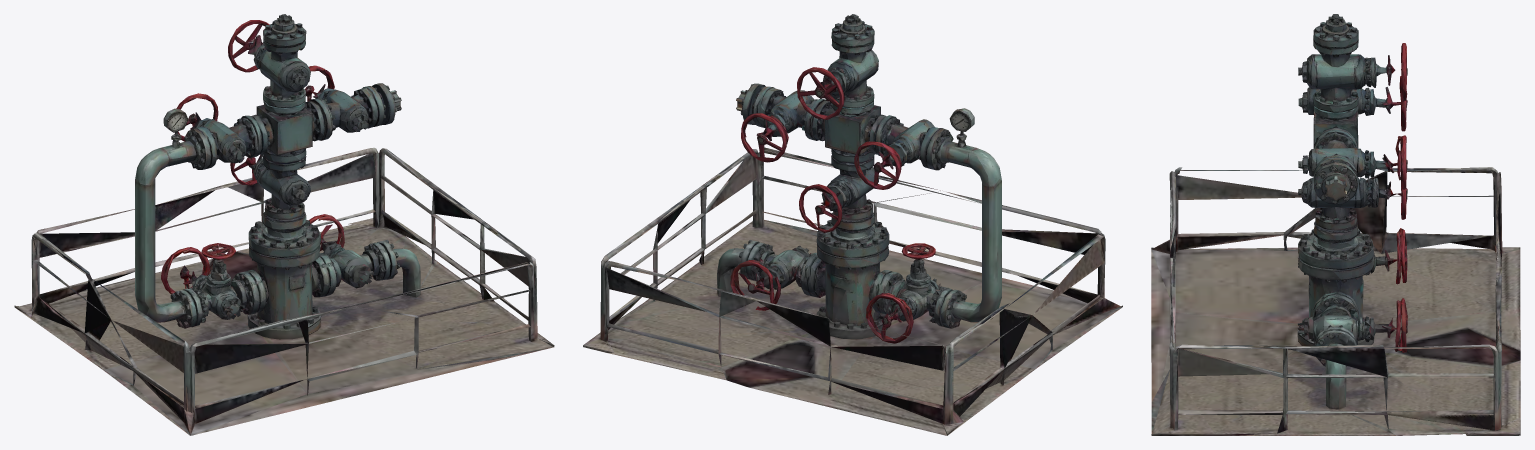
The model's file is wellhead.glb.
The picture shows the model from 3 angles, left to right: view 1: azimuth 30°, elevation 25°; view 2: azimuth 150°, elevation 25°; view 3: azimuth 270°, elevation 25°; orthographic projection. The views are drawn at different scales.
Bounding box in the file's own units: 1.9 × 1.56 × 1.59.
1 material, 1 textured.
